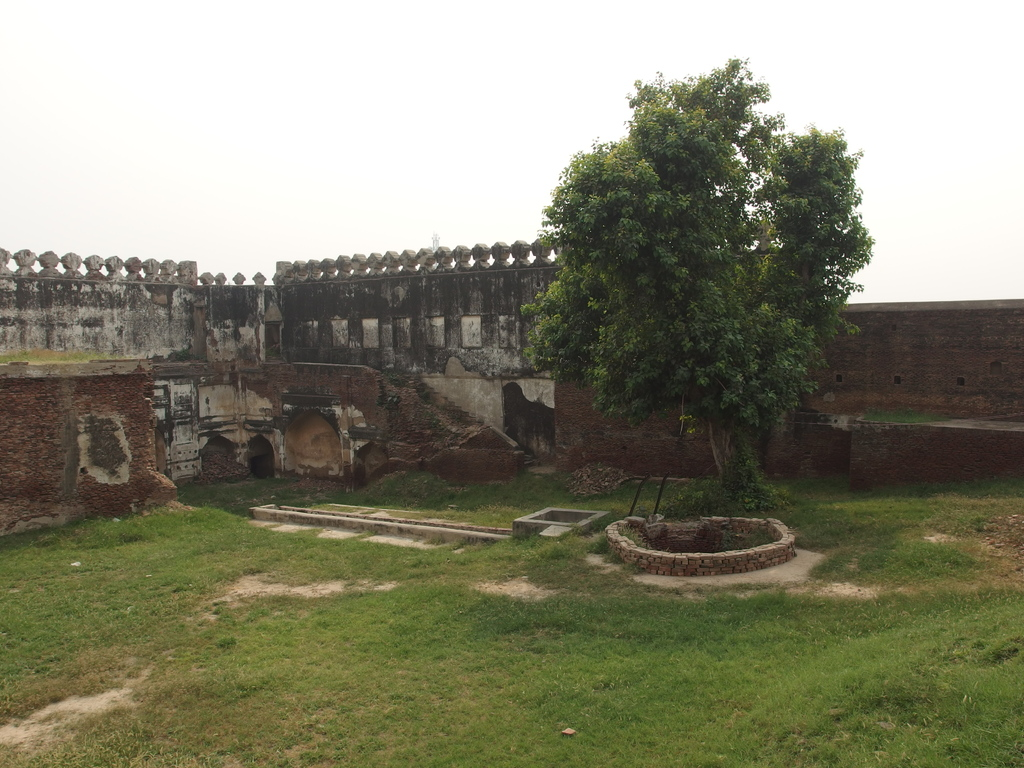Tree: (524, 59, 872, 490)
